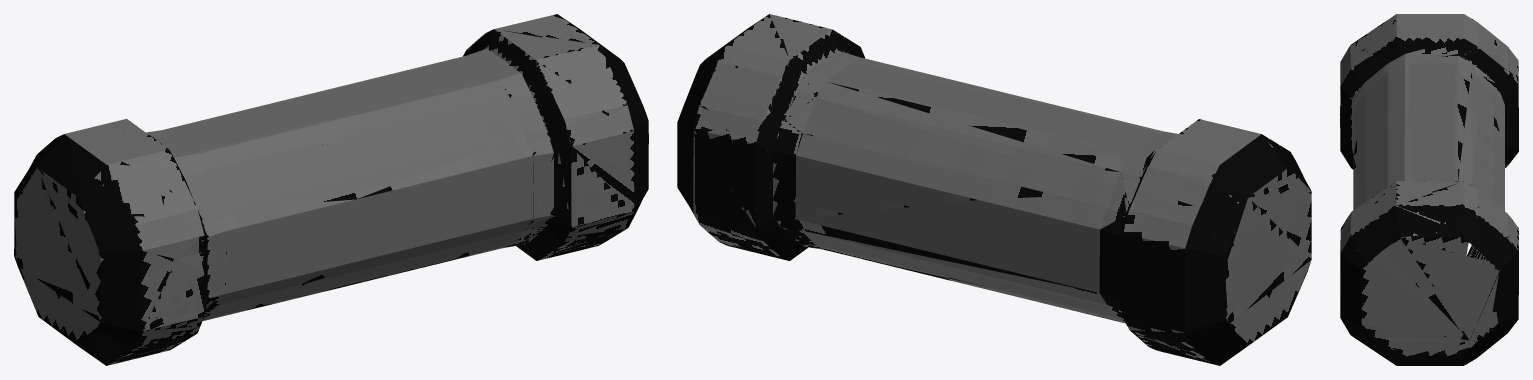
3 renders of one model, left to right at view 1: azimuth 30°, elevation 25°; view 2: azimuth 150°, elevation 25°; view 3: azimuth 270°, elevation 25°, orthographic. The views are drawn at different scales.
Visible parts, largest first — view 1: OBJ088; view 2: OBJ088; view 3: OBJ088.
Boxes of the visible parts, x1,y1,x2,y2 form: OBJ088: (14,14,648,365); OBJ088: (677,14,1311,365); OBJ088: (1340,14,1518,365).
Bounding box in the file's own units: 0.3425 × 0.1201 × 0.1212.
Materials: 1 (1 with a texture image).
